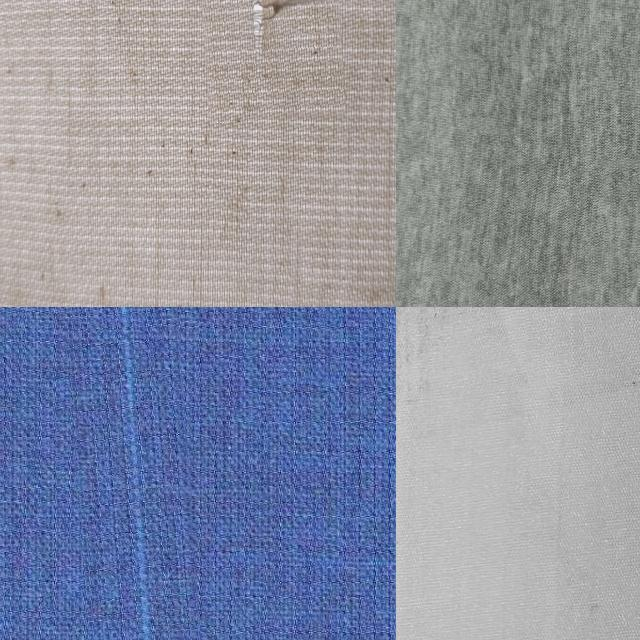Thread_other: (396, 307, 640, 399)
other: (603, 156, 640, 287)
stains: (72, 307, 208, 640), (191, 0, 340, 121)
